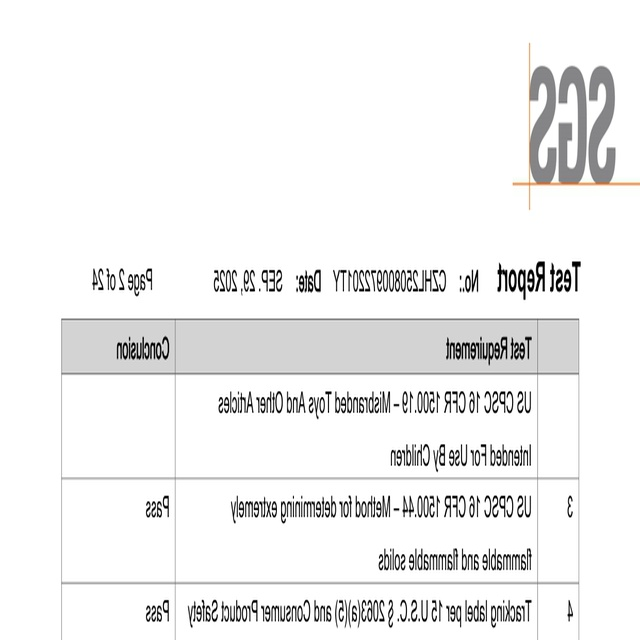sgs: (530, 65, 616, 185)
